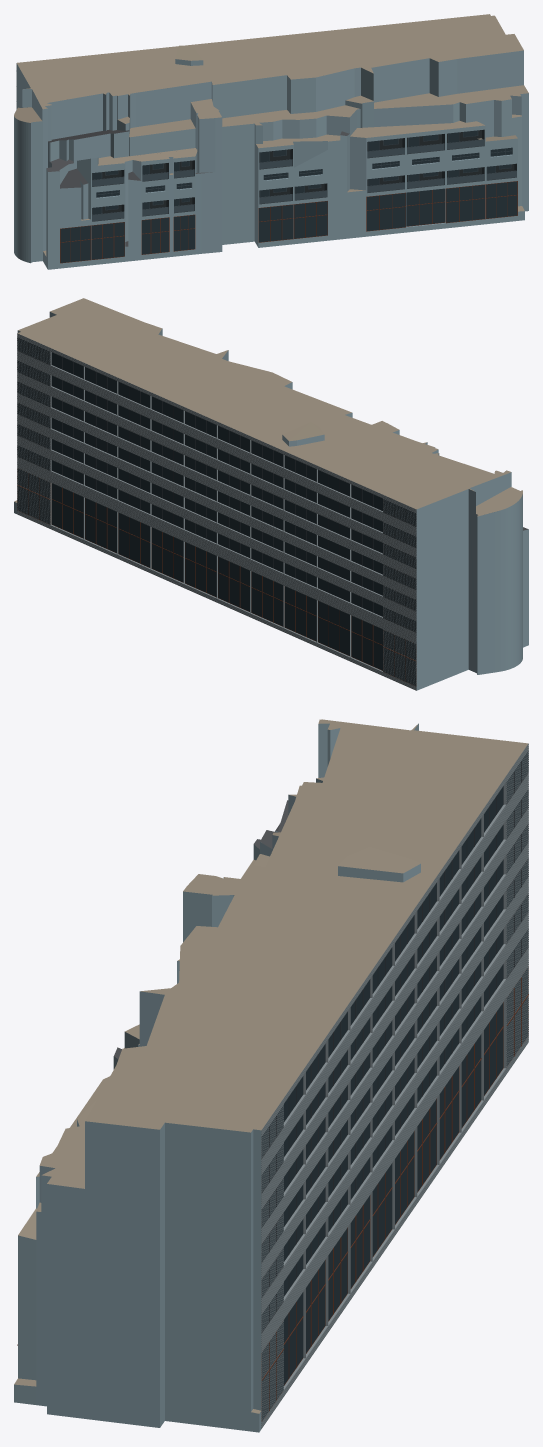
The model's file is recipe-large-veemkade-1000-099696.glb.
3 views of the same model, one above another, from view 1: azimuth 30°, elevation 25°; view 2: azimuth 150°, elevation 25°; view 3: azimuth 270°, elevation 25° (orthographic). The views are drawn at different scales.
Parts seen in each view (by area): view 1: veemkade-1000-099696; view 2: veemkade-1000-099696; view 3: veemkade-1000-099696.
Boxes of the visible parts, x1,y1,x2,y2 form: veemkade-1000-099696: (14, 14, 528, 269); veemkade-1000-099696: (14, 298, 528, 690); veemkade-1000-099696: (14, 719, 528, 1432).
Size of the model in its own units: 72.3 by 24.18 by 36.58.
